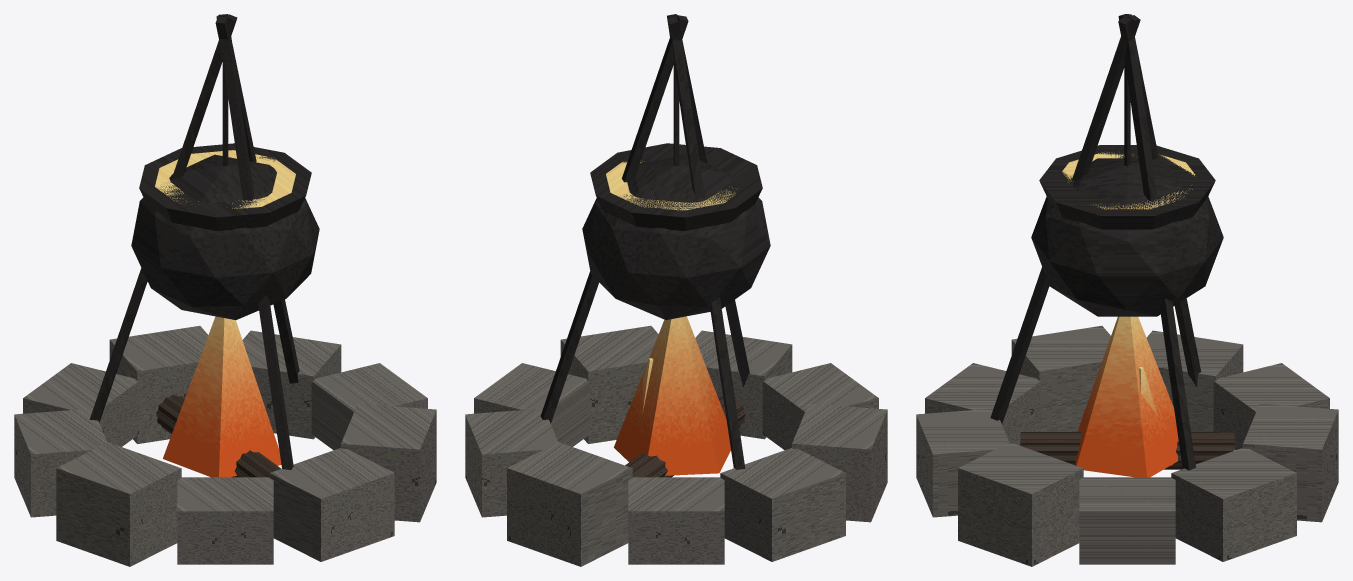
The model's file is hearth.glb.
3 renders of one model, left to right at view 1: azimuth 30°, elevation 25°; view 2: azimuth 150°, elevation 25°; view 3: azimuth 270°, elevation 25°, orthographic.
Parts seen in each view (by area): view 1: hearth, pot, glow-flame; view 2: hearth, pot, glow-flame; view 3: hearth, pot, glow-flame.
Boxes of the visible parts, x1,y1,x2,y2 form: hearth: [14, 14, 436, 566]; pot: [131, 143, 319, 319]; glow-flame: [163, 316, 281, 477]; hearth: [465, 14, 887, 566]; pot: [582, 143, 770, 319]; glow-flame: [614, 316, 730, 475]; hearth: [916, 14, 1338, 566]; pot: [1031, 145, 1223, 316]; glow-flame: [1075, 316, 1178, 477].
Size of the model in its own units: 1.56 by 1.94 by 1.58.
Materials: 1 (1 with a texture image).
